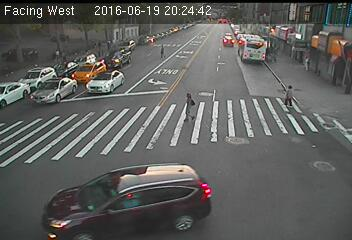neg: (146, 166, 179, 210), (317, 148, 345, 185), (146, 98, 172, 132), (46, 65, 71, 99), (85, 150, 110, 183), (227, 123, 250, 154), (276, 153, 299, 183), (250, 33, 270, 58), (153, 66, 172, 91), (38, 181, 57, 205), (204, 44, 222, 67), (95, 94, 113, 117), (48, 118, 65, 140), (105, 32, 118, 50), (315, 51, 327, 67)
pos: (178, 90, 201, 122), (281, 80, 303, 109), (156, 39, 170, 58)
